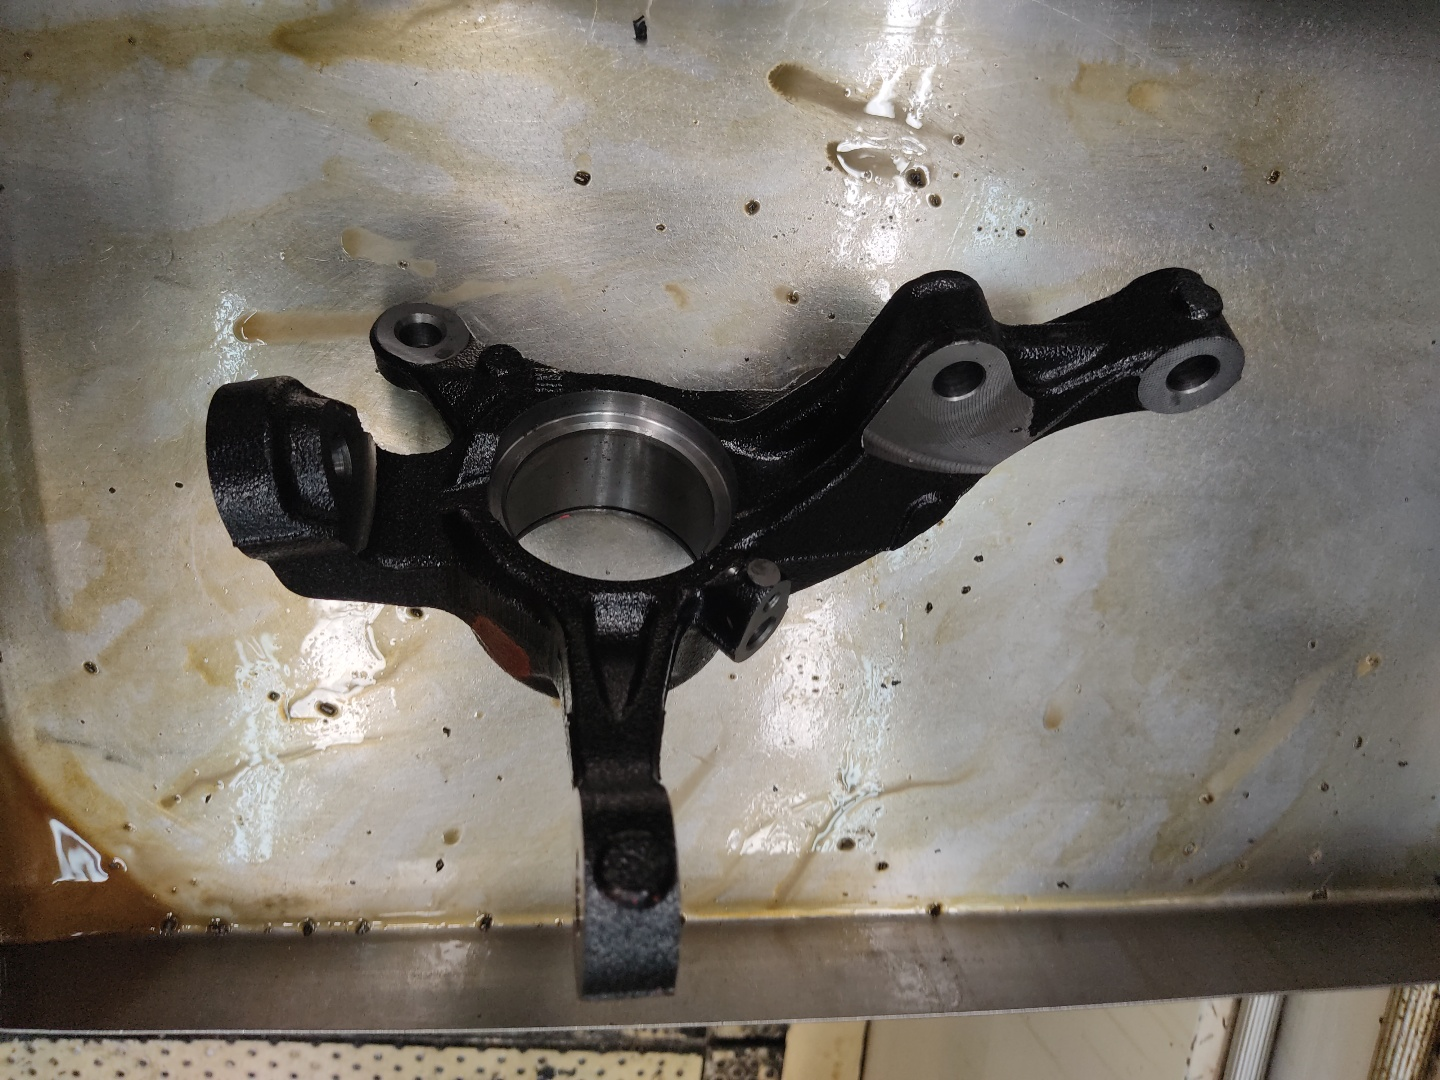abs-rh: (190, 245, 1252, 1012)
